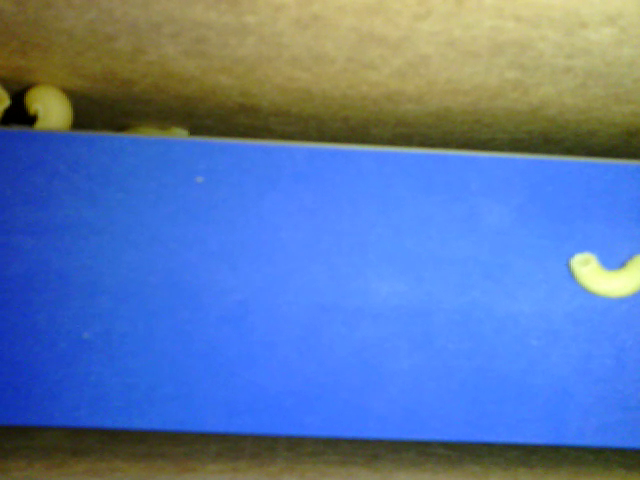elbow: (566, 251, 638, 297)
shell: (24, 83, 75, 135)
